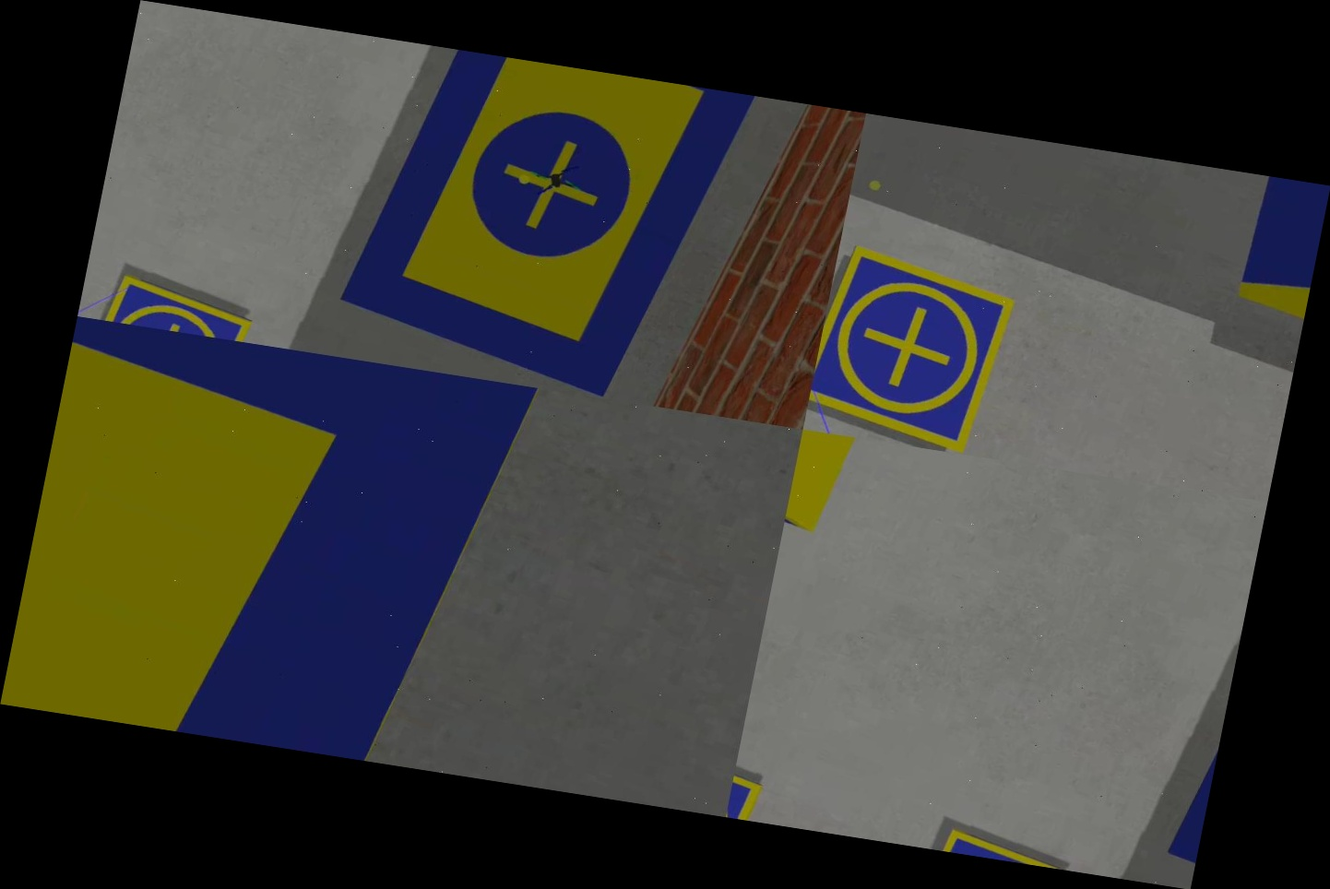large_base: (0, 316, 558, 778), (318, 38, 762, 413)
small_base: (802, 237, 1042, 461), (82, 267, 261, 343)
